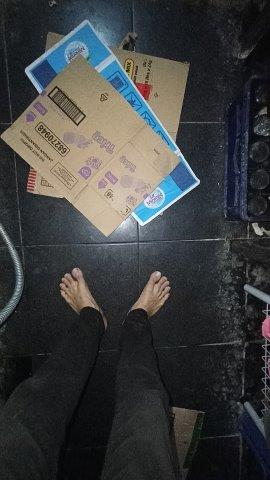kardus: (1, 23, 199, 235)
